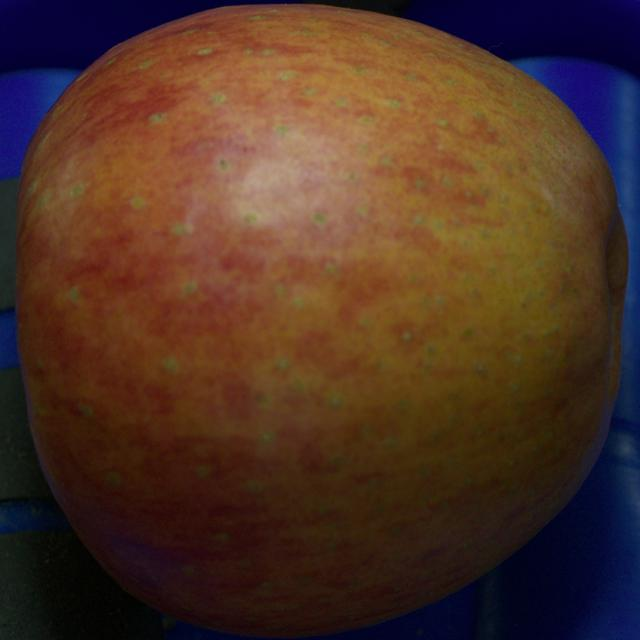apple: (16, 6, 629, 637)
